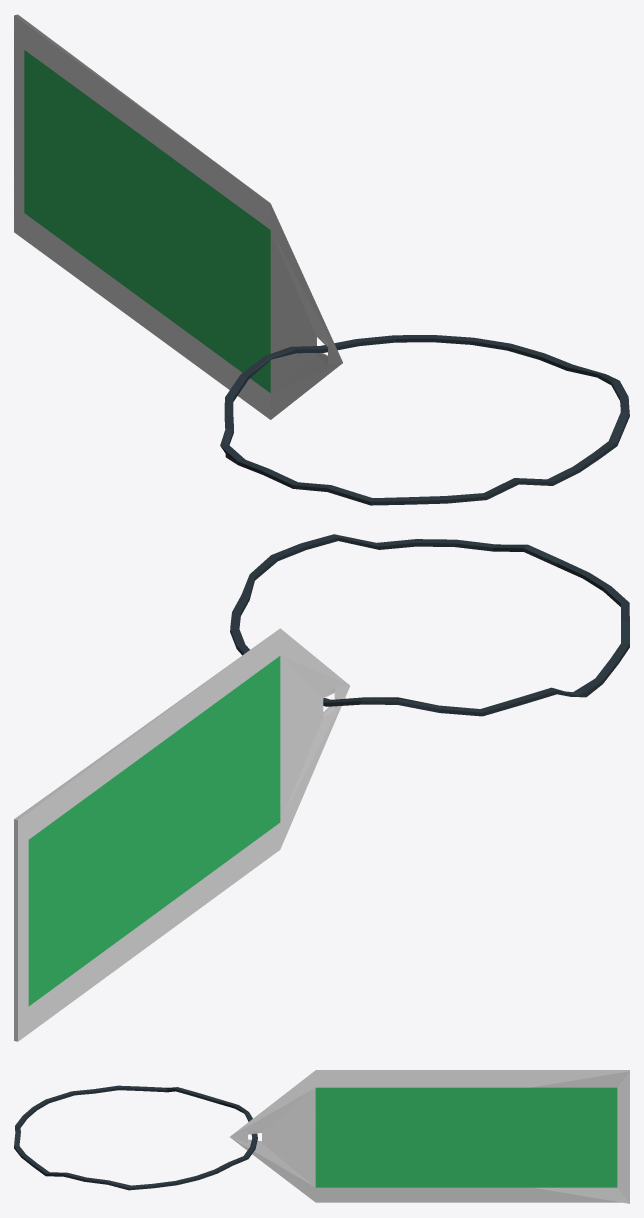
File: GreenPointTag.fbx
3 views of the same model, one above another, from view 1: azimuth 30°, elevation 25°; view 2: azimuth 150°, elevation 25°; view 3: azimuth 270°, elevation 25° (orthographic). The views are drawn at different scales.
Parts seen in each view (by area): view 1: RectanglePointTag.002; view 2: RectanglePointTag.002; view 3: RectanglePointTag.002.
Part boxes in pixels (bbox=[...]): RectanglePointTag.002: bbox=[14, 14, 629, 505]; RectanglePointTag.002: bbox=[14, 534, 629, 1041]; RectanglePointTag.002: bbox=[14, 1070, 629, 1203].
Bounding box in the file's own units: 55 × 31.91 × 134.
